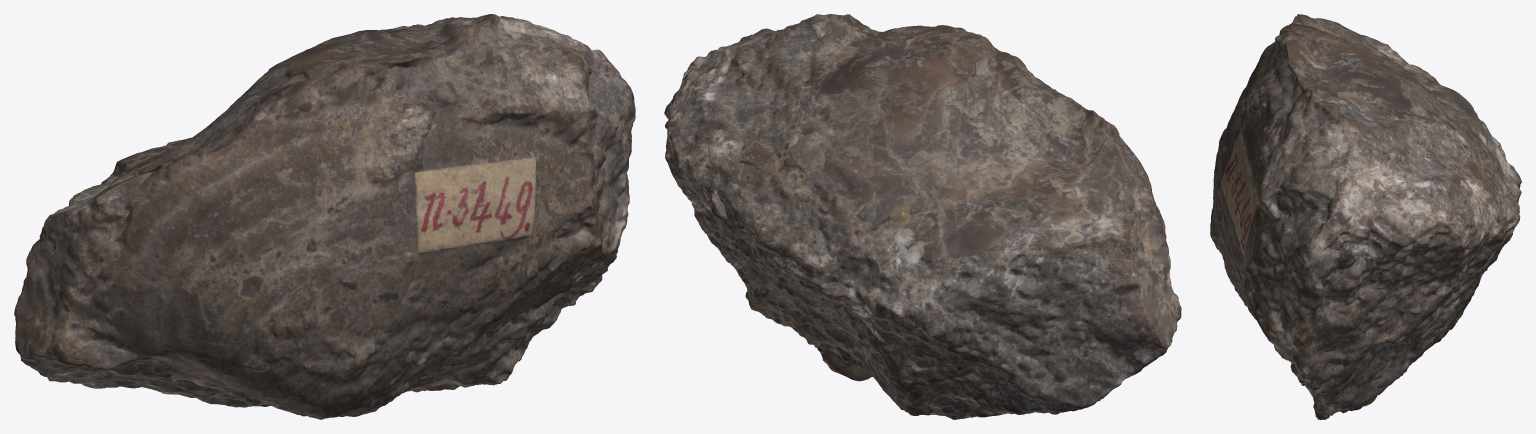
File: EWS0004014.glb
3 views of the same model, side by side, from view 1: azimuth 30°, elevation 25°; view 2: azimuth 150°, elevation 25°; view 3: azimuth 270°, elevation 25° (orthographic). The views are drawn at different scales.
Visible parts, largest first — view 1: input; view 2: input; view 3: input.
Part boxes in pixels (box(x1,y1,x2,y2)): input: box(14, 14, 635, 419); input: box(664, 14, 1181, 419); input: box(1210, 14, 1521, 419).
Bounding box in the file's own units: 0.0508 × 0.0324 × 0.0278.
1 material, 1 textured.
